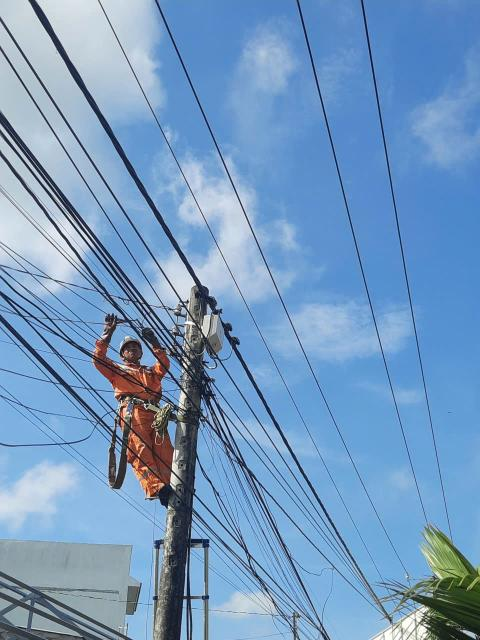gloves: (137, 328, 168, 350), (99, 311, 120, 343)
harness: (114, 384, 164, 417)
helmet: (110, 331, 142, 353)
shoes: (155, 478, 175, 505)
